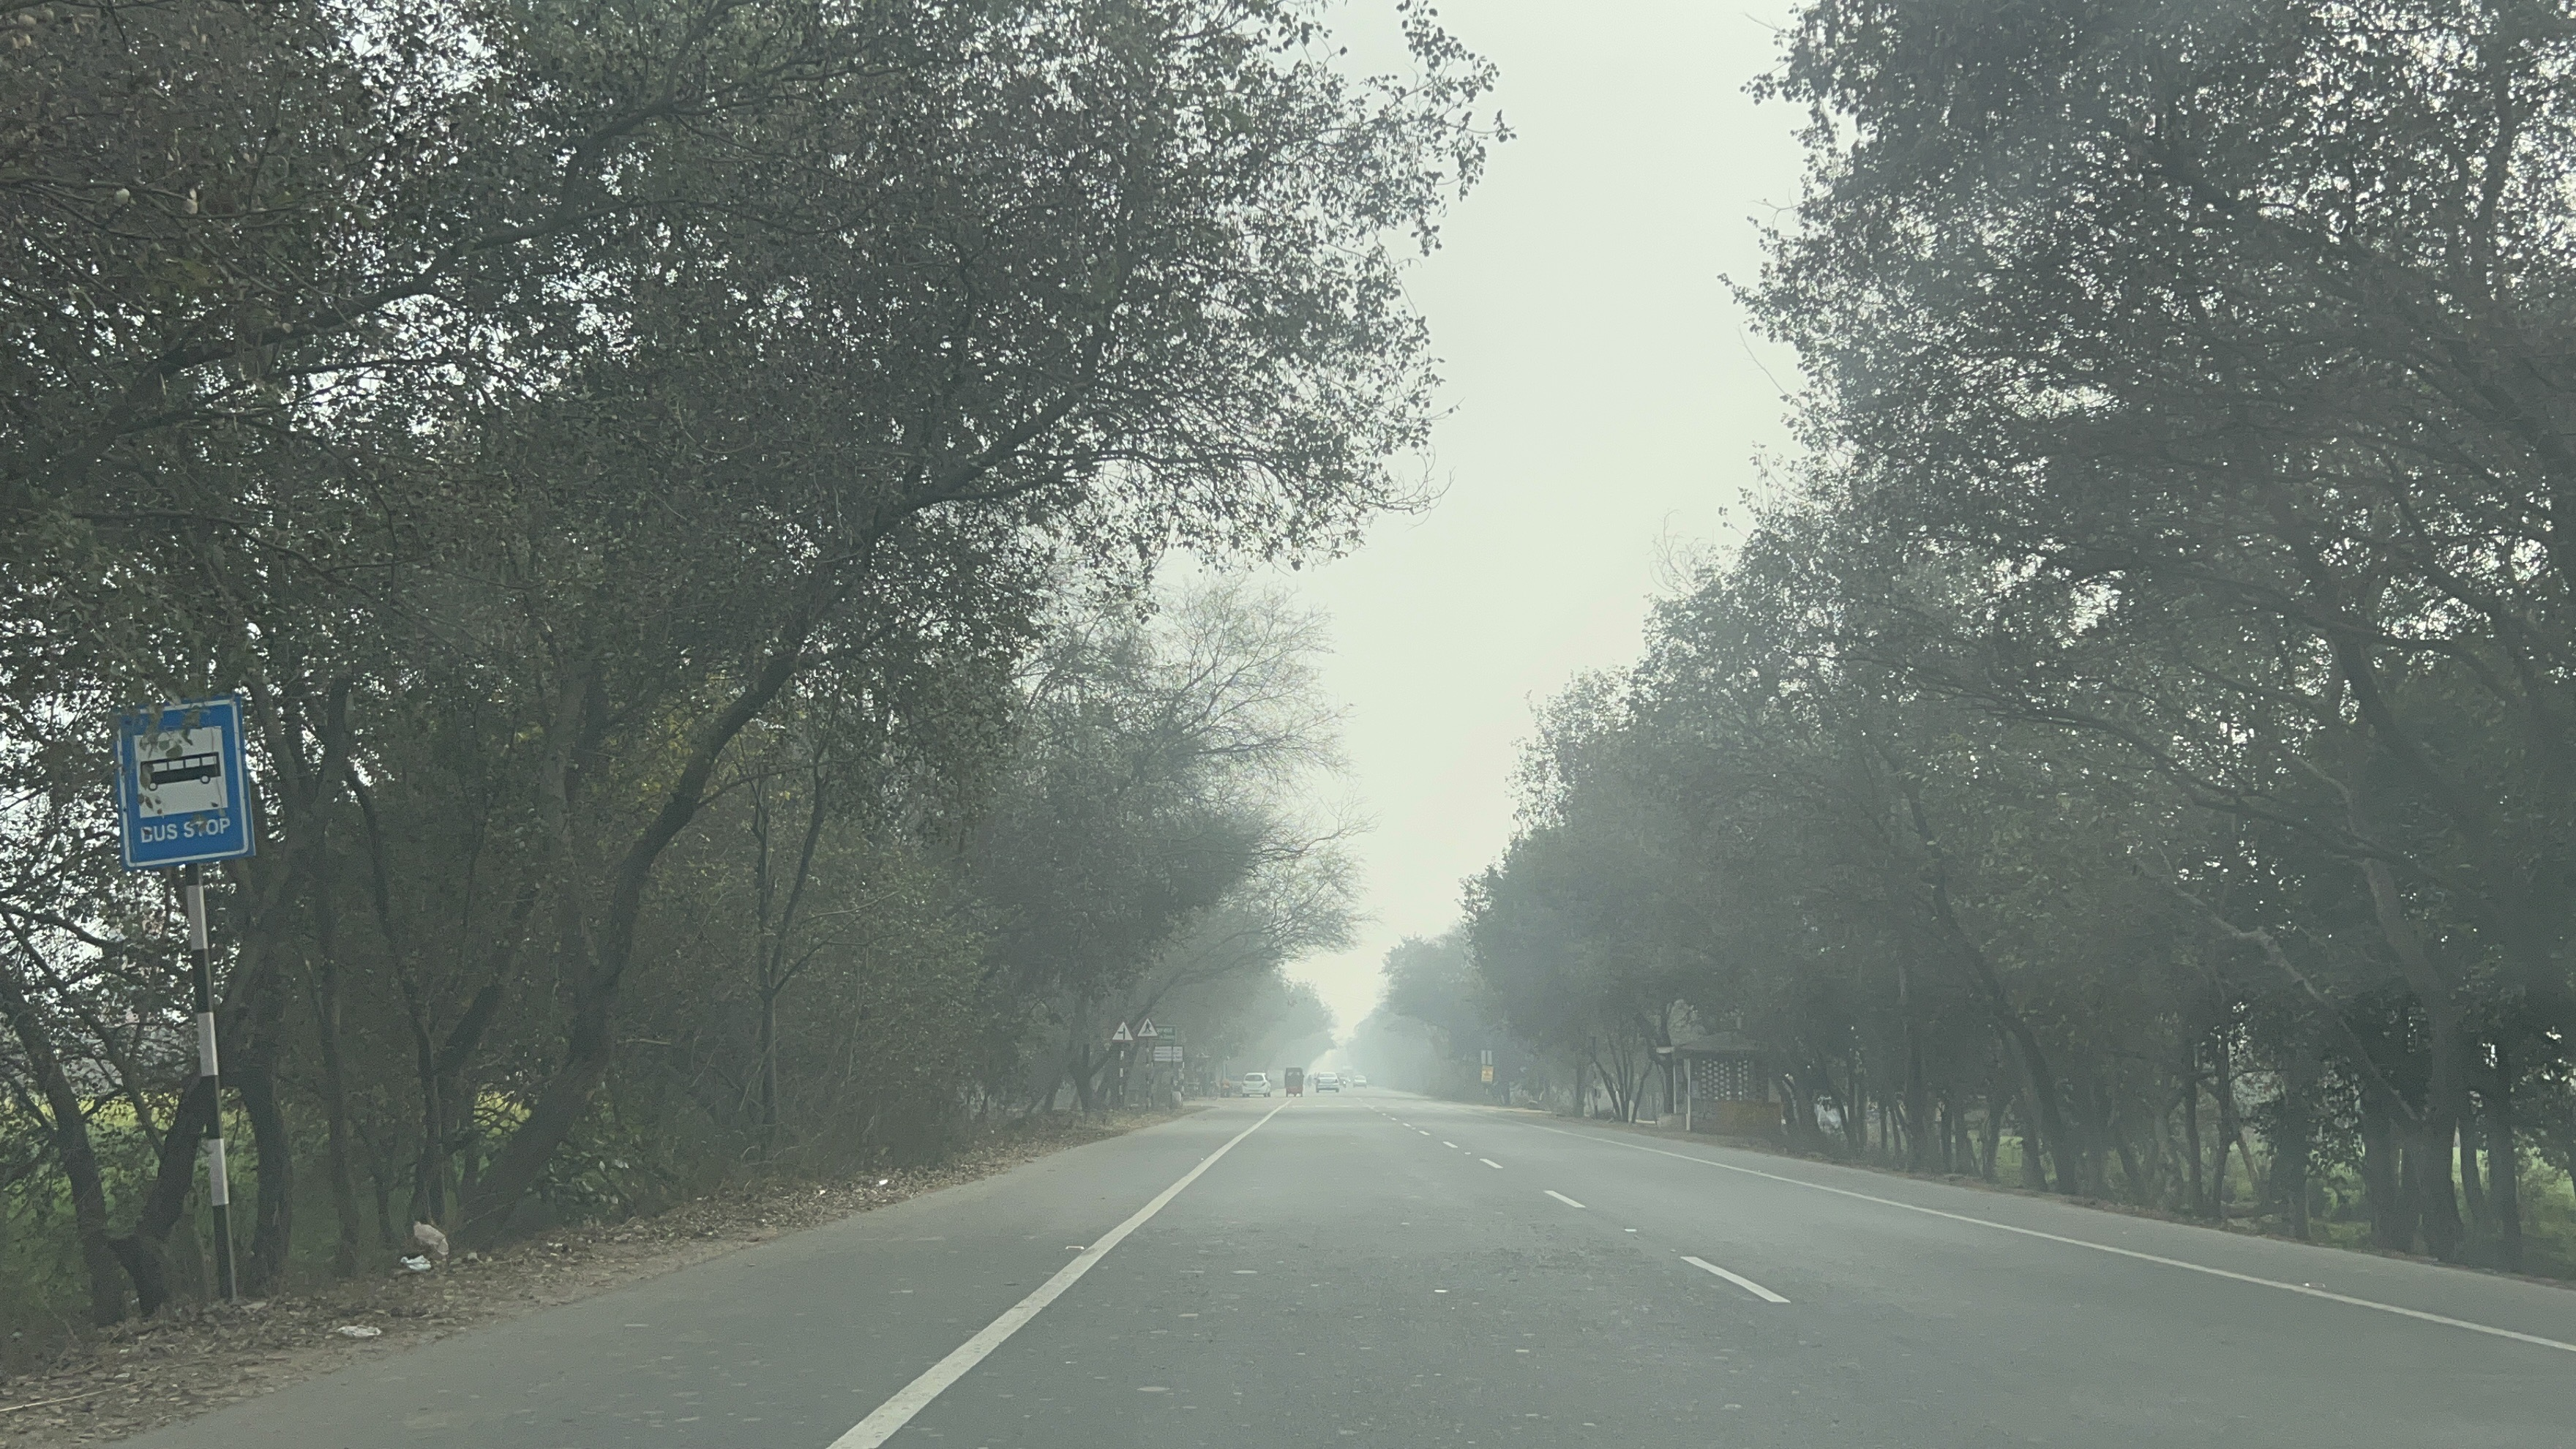Informatory: (106, 694, 265, 876)
Warning: (1104, 1010, 1168, 1062)
